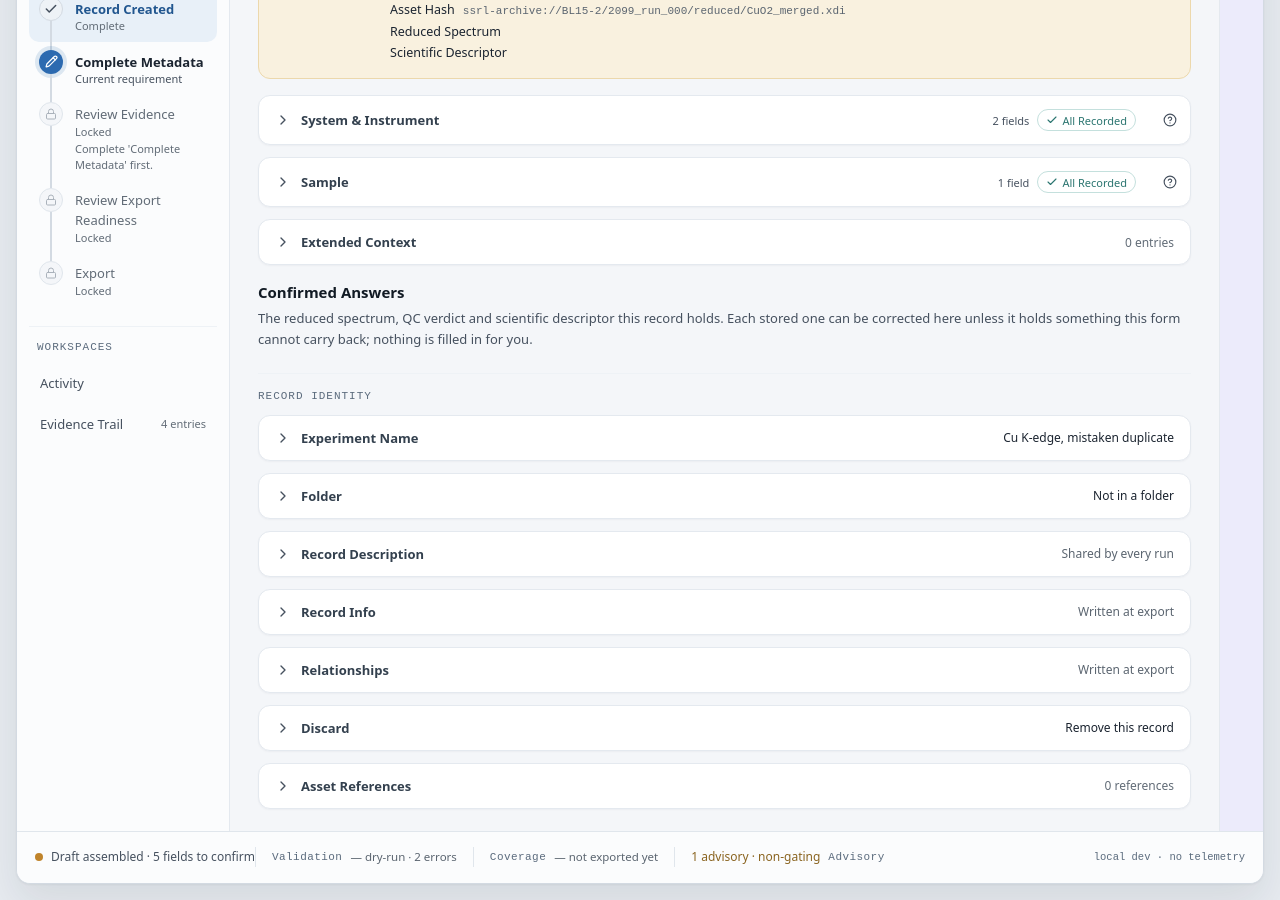
Test: the control is reachable › the record screen mounts it, collapsed on arrival
(page scrolled)
Check: the button "Discard This Record" is not shown
Click the button "Discard Remove this record". click: [325, 728]
box: [259,706,1190,750]
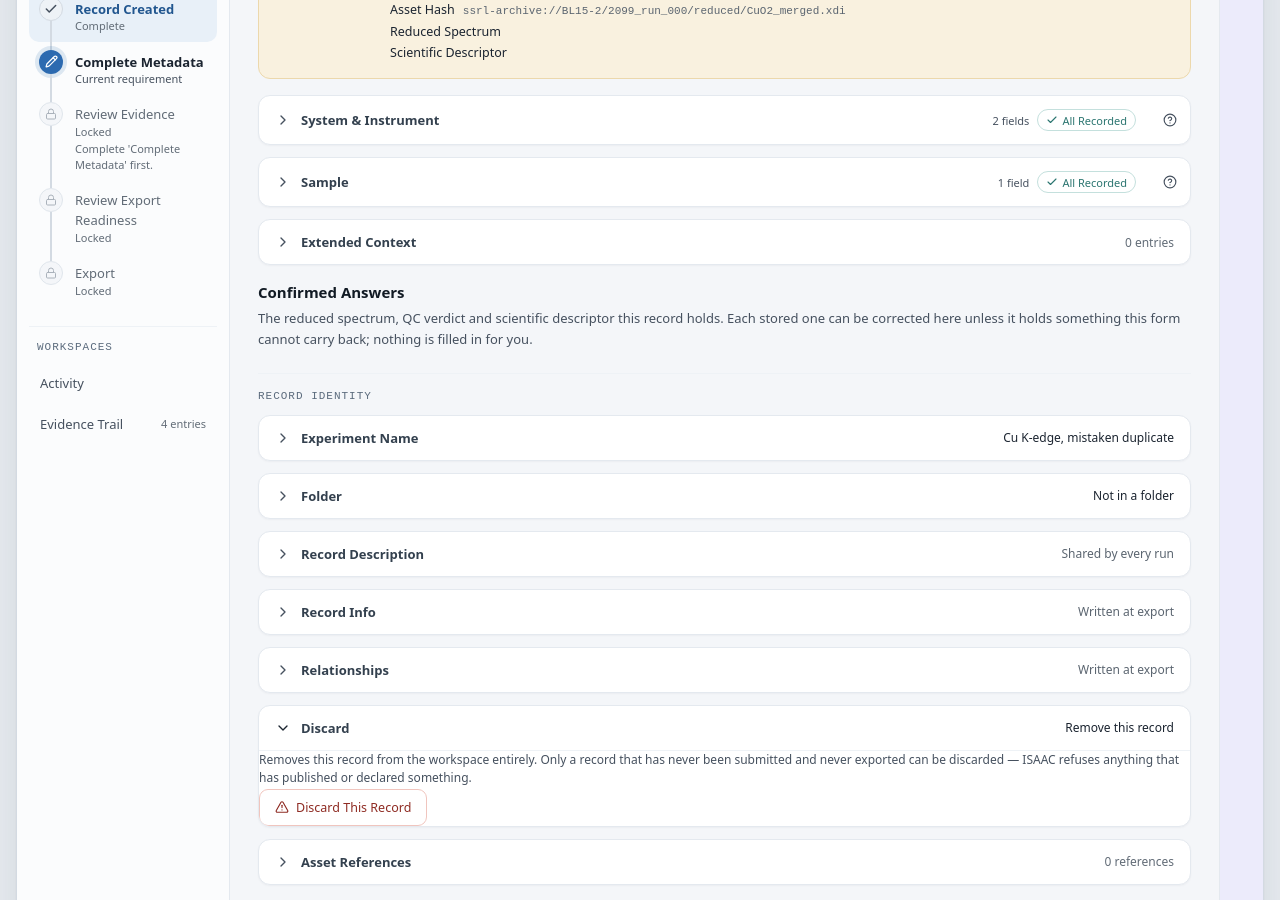
Check: the button "Discard This Record" is shown, box [259,789,427,826]
